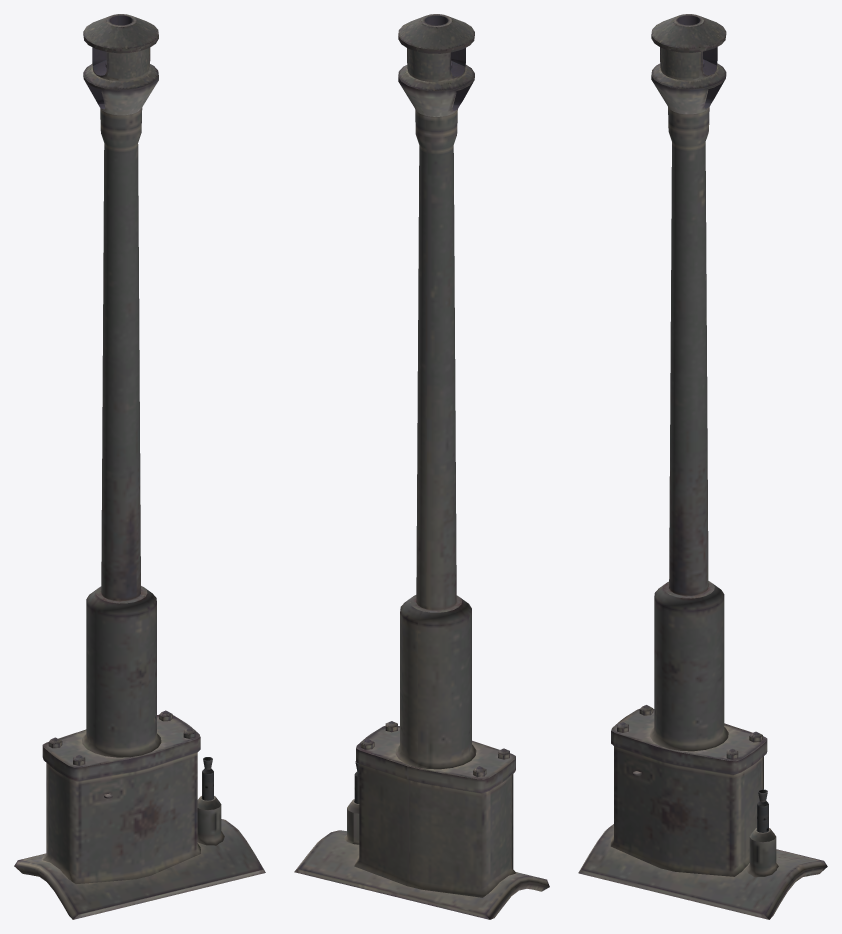
Rendered from Gun_04.glb.
The picture shows the model from 3 angles, left to right: view 1: azimuth 30°, elevation 25°; view 2: azimuth 150°, elevation 25°; view 3: azimuth 330°, elevation 25°; orthographic projection. The views are drawn at different scales.
Parts seen in each view (by area): view 1: set_0_group_0; view 2: set_0_group_0; view 3: set_0_group_0.
Boxes of the visible parts, x1,y1,x2,y2 form: set_0_group_0: (14, 14, 265, 919); set_0_group_0: (294, 14, 549, 919); set_0_group_0: (578, 14, 827, 919).
Bounding box in the file's own units: 0.7641 × 3.24 × 0.4174.
1 material, 1 textured.
